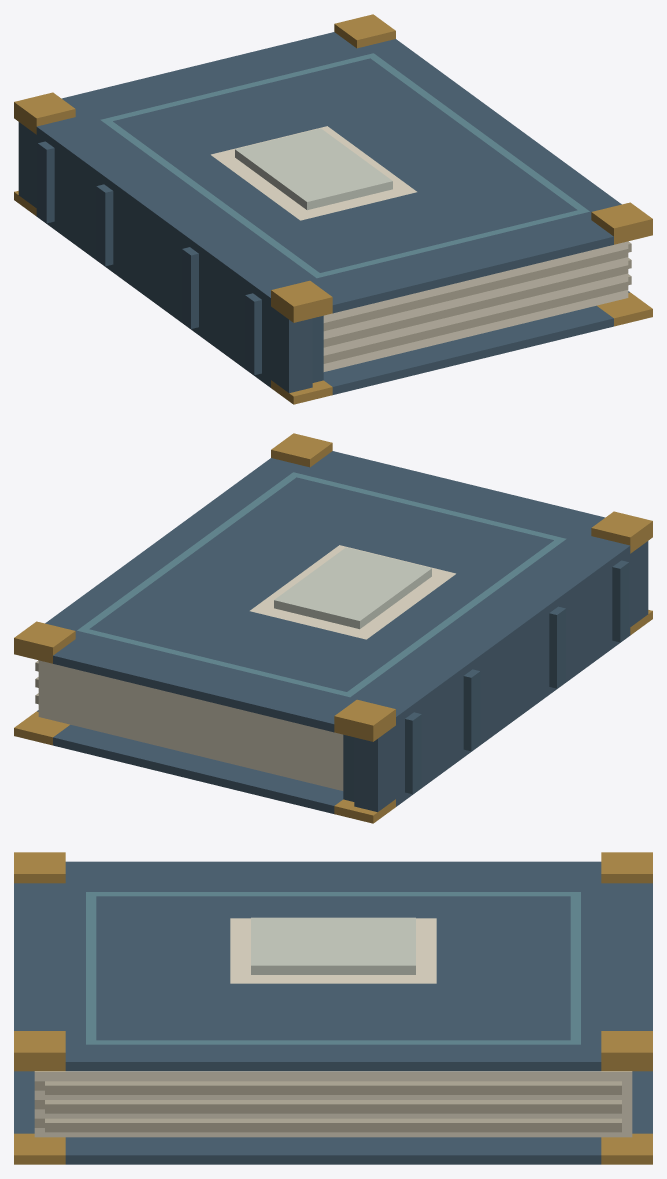
Rendered from visual-far.glb.
3 views of the same model, one above another, from view 1: azimuth 30°, elevation 25°; view 2: azimuth 150°, elevation 25°; view 3: azimuth 270°, elevation 25° (orthographic). The views are drawn at different scales.
Visible parts, largest first — view 1: 教师/学生手持书册母版; view 2: 教师/学生手持书册母版; view 3: 教师/学生手持书册母版.
Part boxes in pixels (bbox=[...]): 教师/学生手持书册母版: bbox=[14, 14, 652, 404]; 教师/学生手持书册母版: bbox=[14, 433, 652, 823]; 教师/学生手持书册母版: bbox=[14, 852, 652, 1164].
Size of the model in its own units: 0.235 by 0.06 by 0.31.
7 materials, 7 textured.
